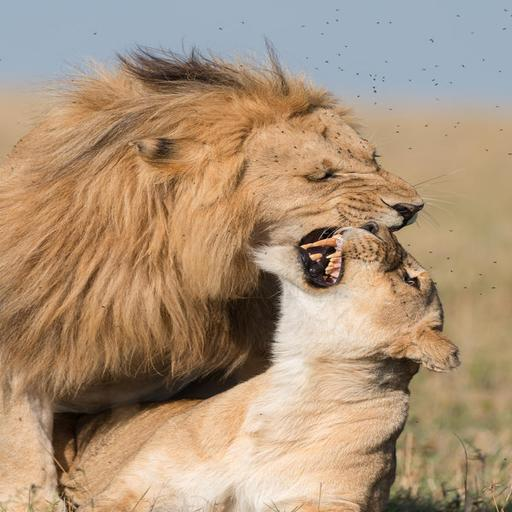Lion: (0, 28, 437, 512), (55, 221, 462, 512)
